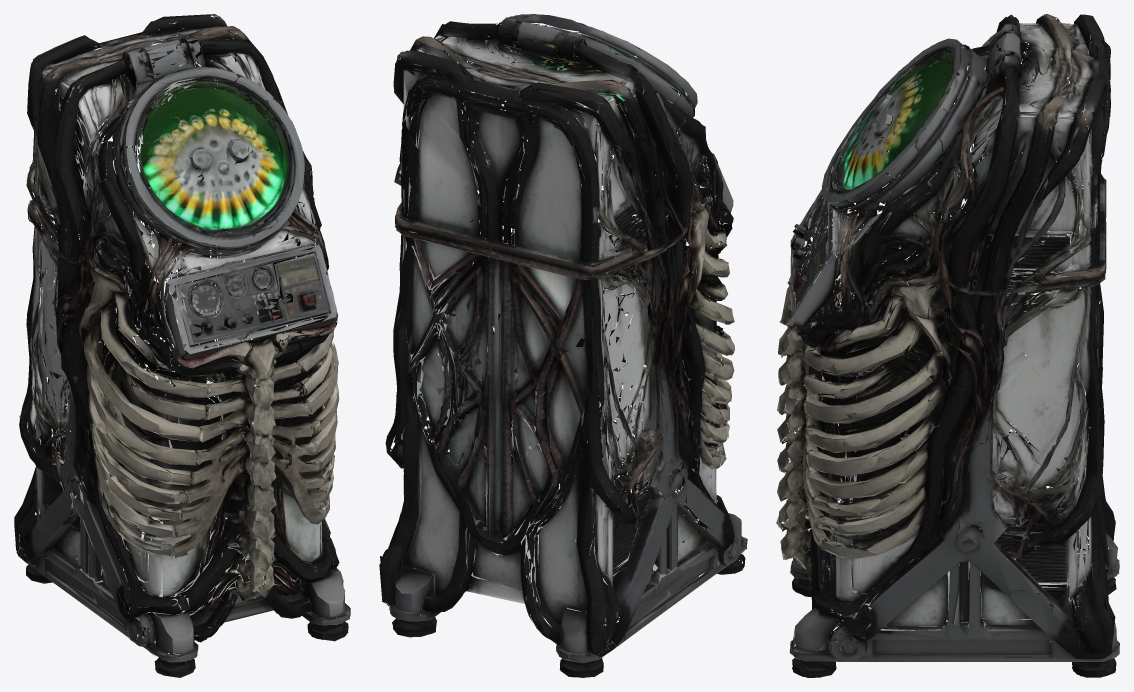
Rendered from vass_bio_centrifuge_rack.glb.
3 views of the same model, side by side, from view 1: azimuth 30°, elevation 25°; view 2: azimuth 150°, elevation 25°; view 3: azimuth 270°, elevation 25° (orthographic). The views are drawn at different scales.
Visible parts, largest first — view 1: node_0; view 2: node_0; view 3: node_0.
Boxes of the visible parts, x1,y1,x2,y2 form: node_0: (14, 14, 350, 677); node_0: (379, 14, 747, 677); node_0: (776, 14, 1119, 677).
Size of the model in its own units: 0.4783 by 1.03 by 0.5475.
1 material, 1 textured.
